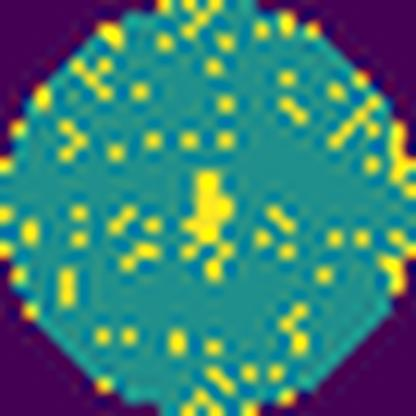Center: (182, 163, 238, 267)
